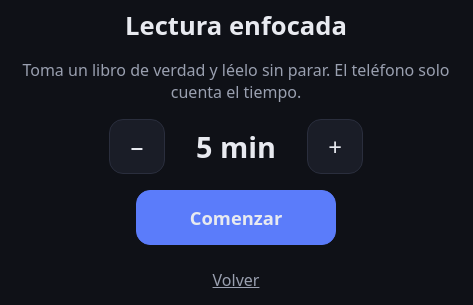
it: Lectura › al agotarse el tiempo registra la lectura una sola vez y muestra el resumen
Step 1. Click the button "Comenzar" → point(236, 217), box [136,190,336,244]
Wait 300600 ms
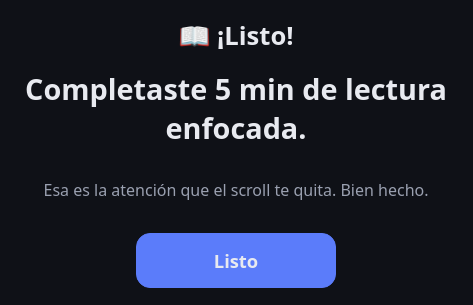
expect the text "Completaste 5 min de lectura enfocada." is shown: met, box [16,69,456,147]
